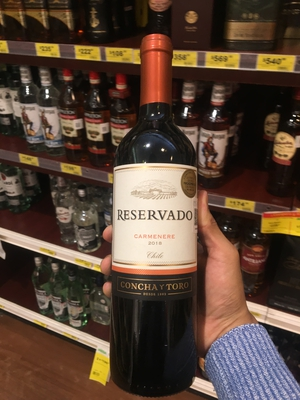reservado carmenere: (108, 39, 205, 400)
